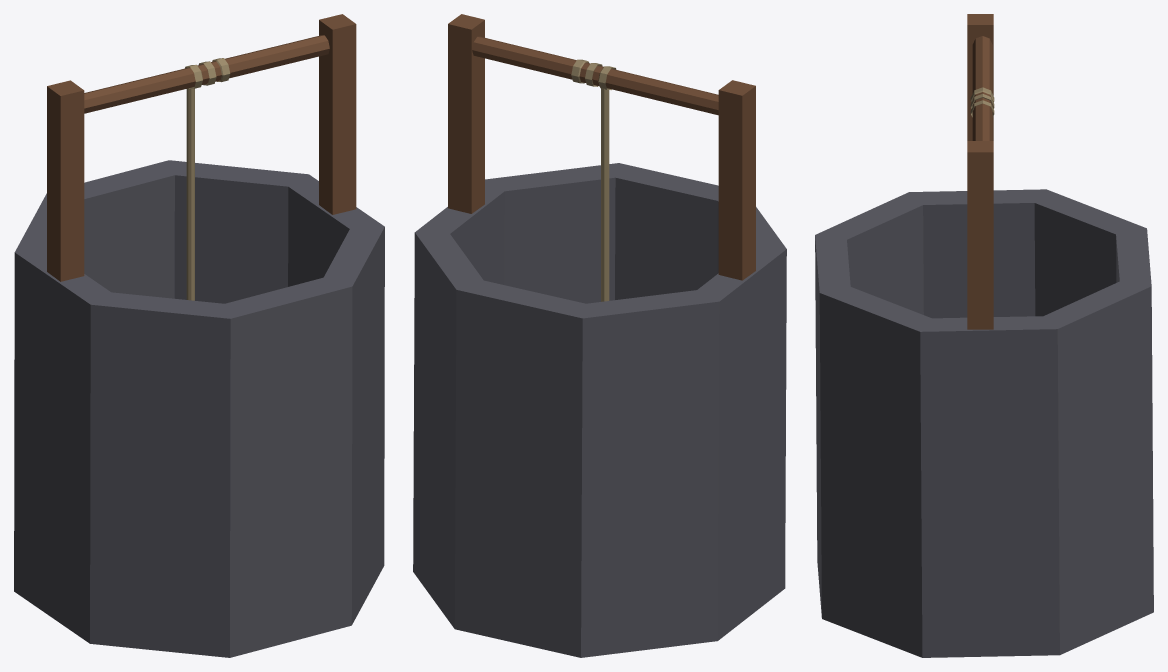
The model's file is Sumur.fbx.
3 renders of one model, left to right at view 1: azimuth 30°, elevation 25°; view 2: azimuth 150°, elevation 25°; view 3: azimuth 270°, elevation 25°, orthographic. The views are drawn at different scales.
Visible parts, largest first — view 1: Cylinder.014; view 2: Cylinder.014; view 3: Cylinder.014.
Boxes of the visible parts, <box> form: Cylinder.014: <box>14,14,384,657</box>; Cylinder.014: <box>413,14,786,657</box>; Cylinder.014: <box>815,14,1153,657</box>.
Size of the model in its own units: 179 by 296 by 180.
